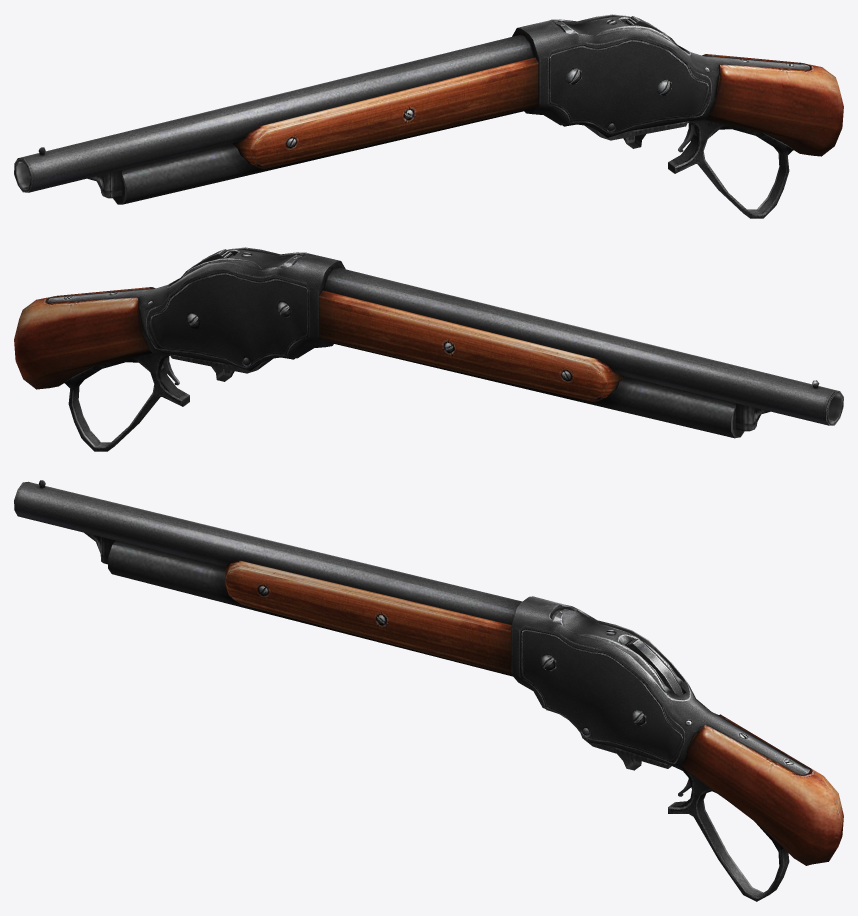
The picture shows the model from 3 angles, top to bottom: view 1: azimuth 30°, elevation 25°; view 2: azimuth 150°, elevation 25°; view 3: azimuth 330°, elevation 25°; orthographic projection.
Parts seen in each view (by area): view 1: ST_M1887_ST_M1887.001; view 2: ST_M1887_ST_M1887.001; view 3: ST_M1887_ST_M1887.001.
Boxes of the visible parts, left/top/right/bottom form: ST_M1887_ST_M1887.001: left=14, top=14, right=843, bottom=218; ST_M1887_ST_M1887.001: left=14, top=247, right=843, bottom=451; ST_M1887_ST_M1887.001: left=14, top=480, right=843, bottom=901.
Size of the model in its own units: 0.4551 by 0.1294 by 0.0289.
Materials: 1 (1 with a texture image).
